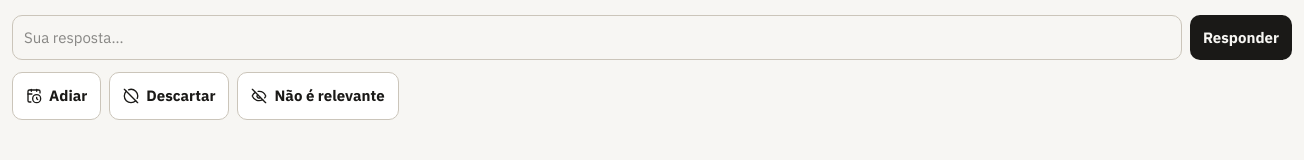
Test: QuestionAnswerForm › associates a validation failure with the answer field and focuses it
The width and height of the screenshot is (1304, 160).
Step 1. Type "x" into the field labelled "resposta" → (597, 38), box 12,15 -> 1182,60
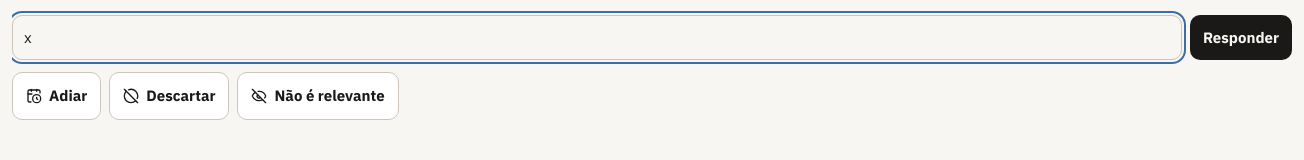
Step 2. Click the button "Responder" → (1241, 38), box 1190,15 -> 1292,60
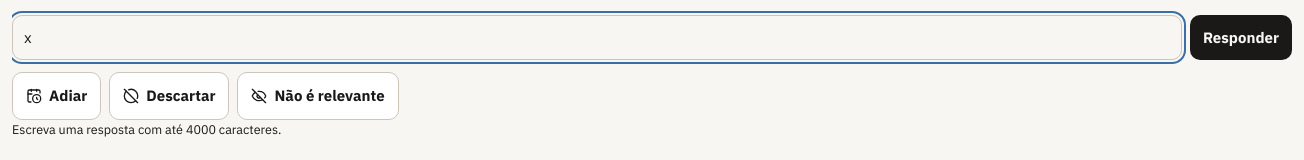
Check: the message reads "Escreva uma resposta com até 4000 caracteres.", box 12,120 -> 281,136
